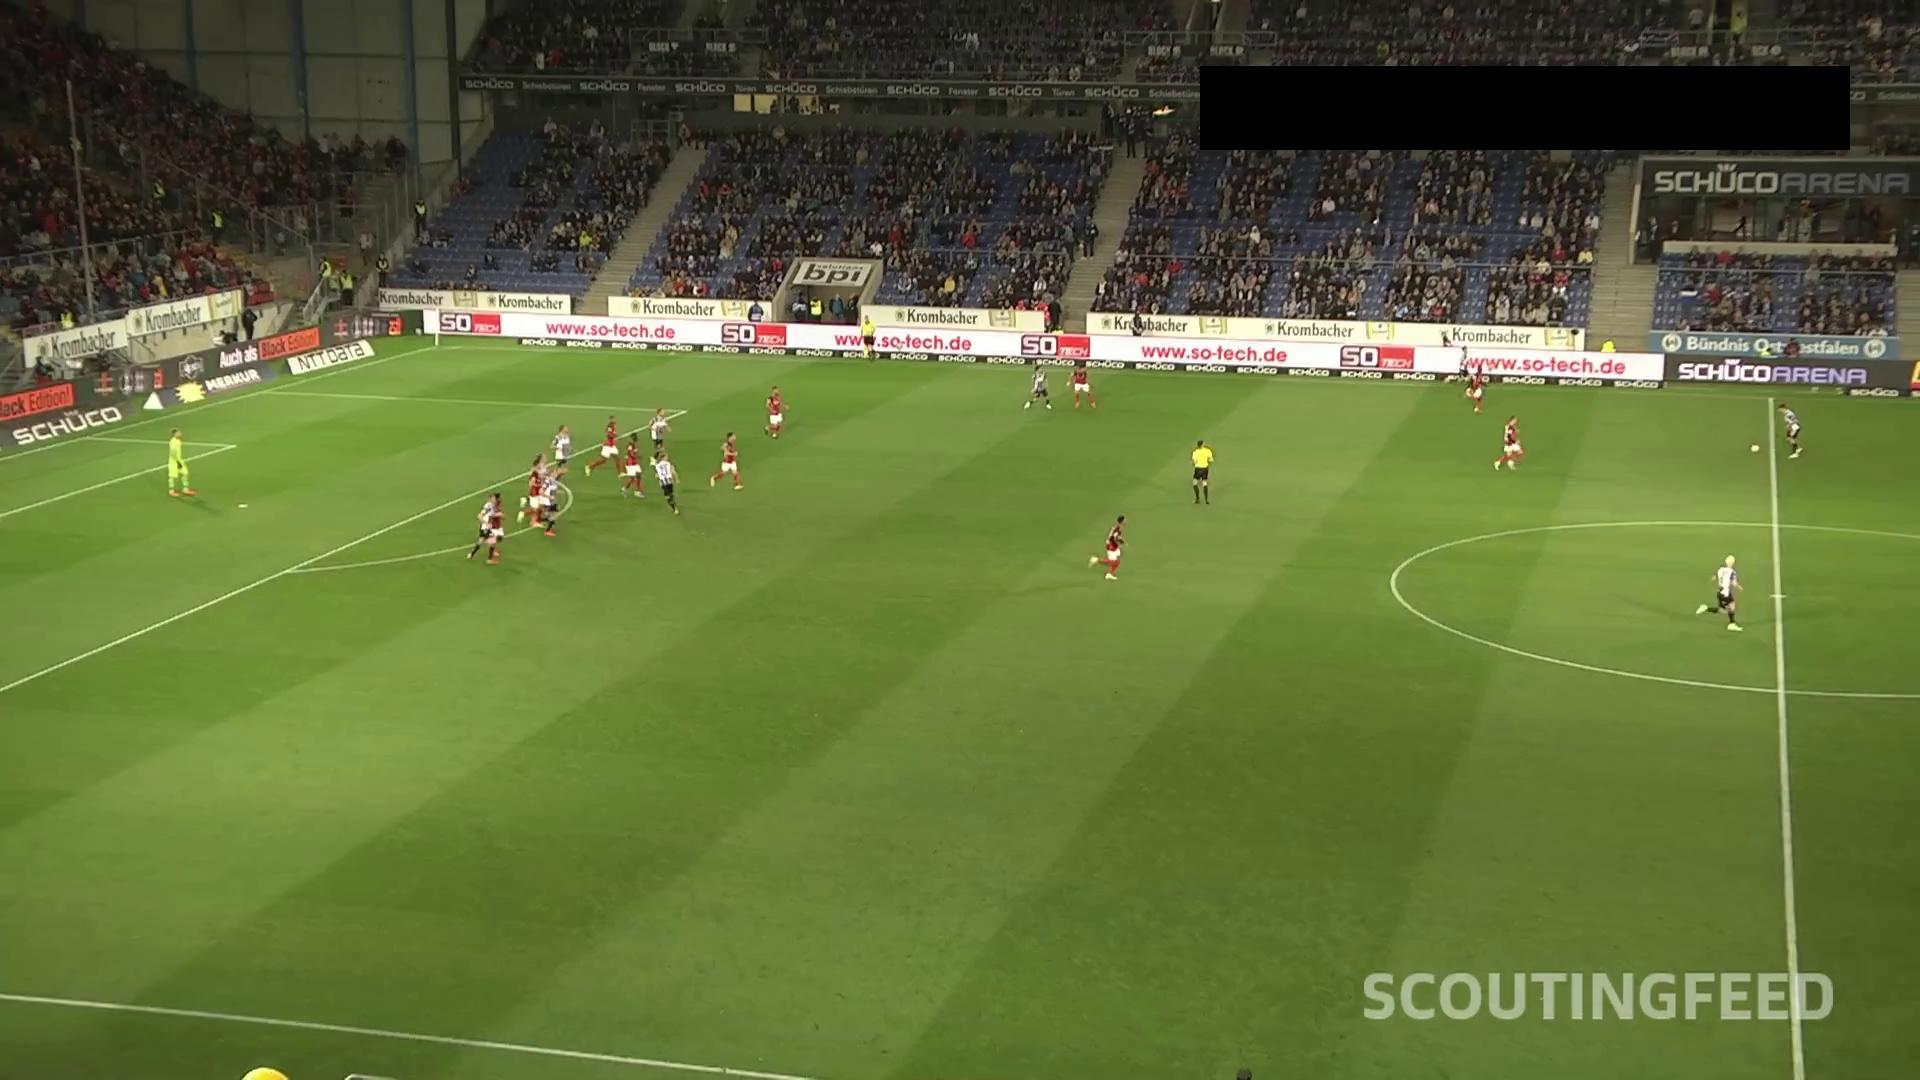Location-of-ball: (1737, 425, 1768, 465)
